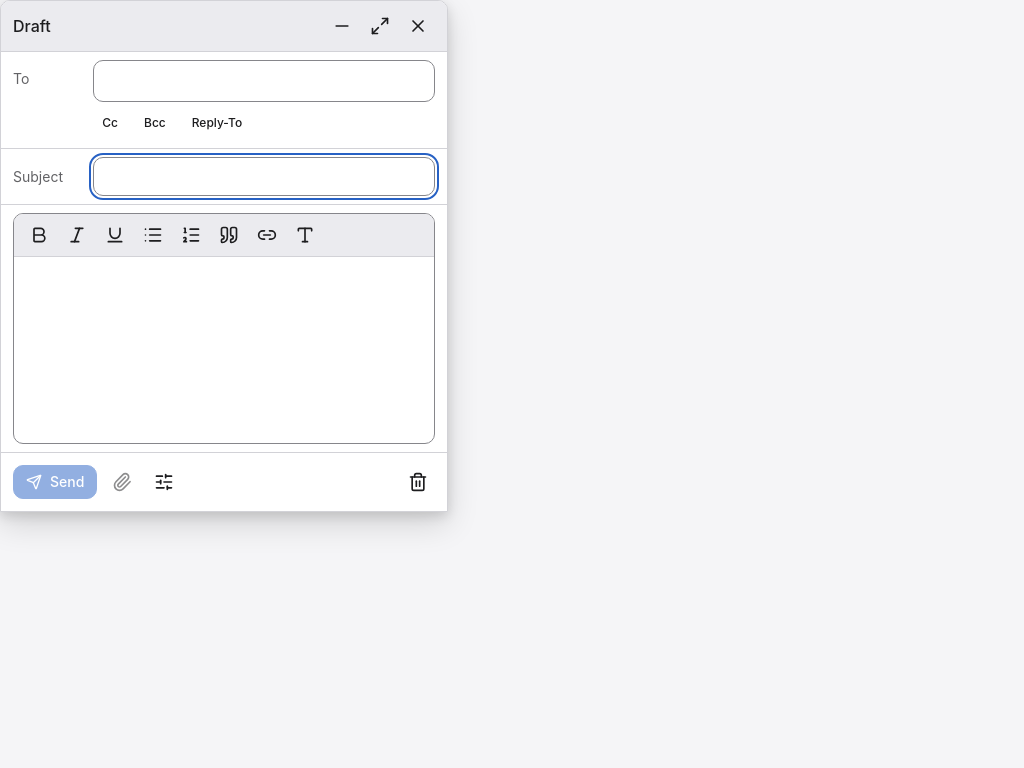
Test: ComposerWindow › edits the subject through the store
Step 1. Type "Hello" into the field labelled "Subject" → (264,176), box [93,157,435,196]
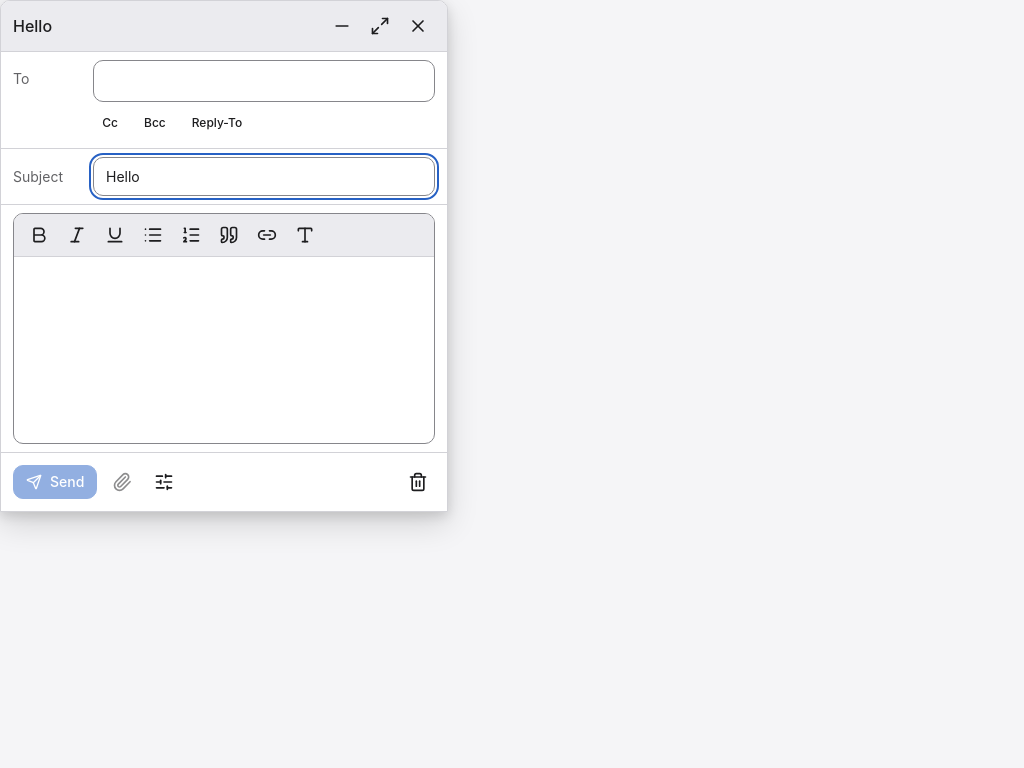
Expected: the text "Hello" is shown, [13,16,52,36]
